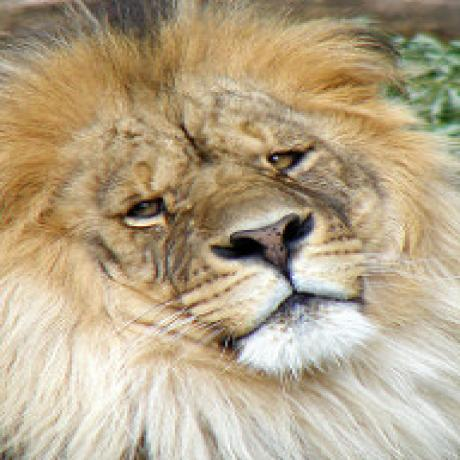Lion: (1, 13, 459, 460)
